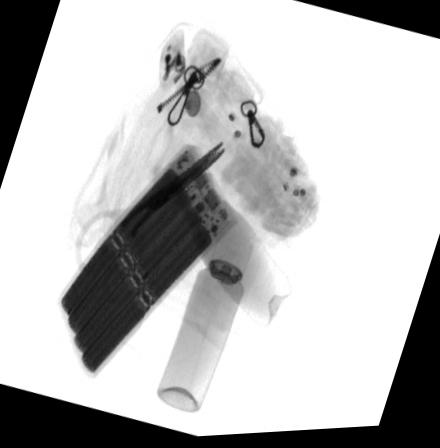Lighter: (159, 25, 186, 98)
Powerbank: (55, 140, 237, 381)
Scissors: (73, 140, 228, 305)
Sprayer: (157, 233, 254, 414)
